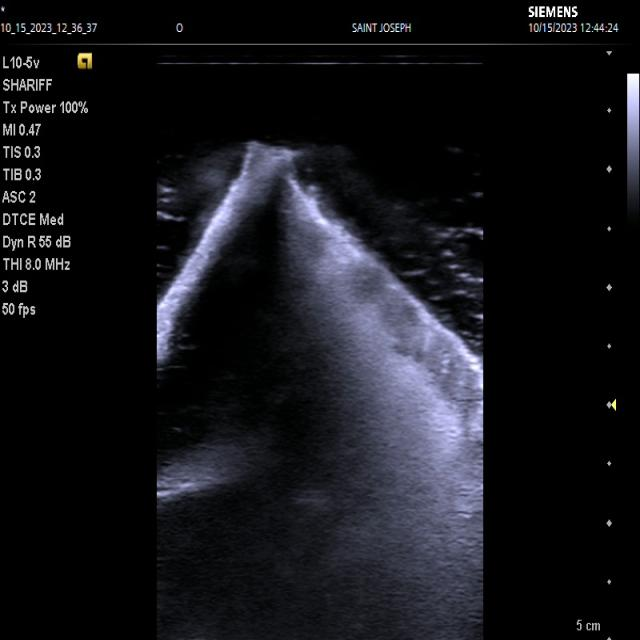tissue: (157, 144, 484, 513)
